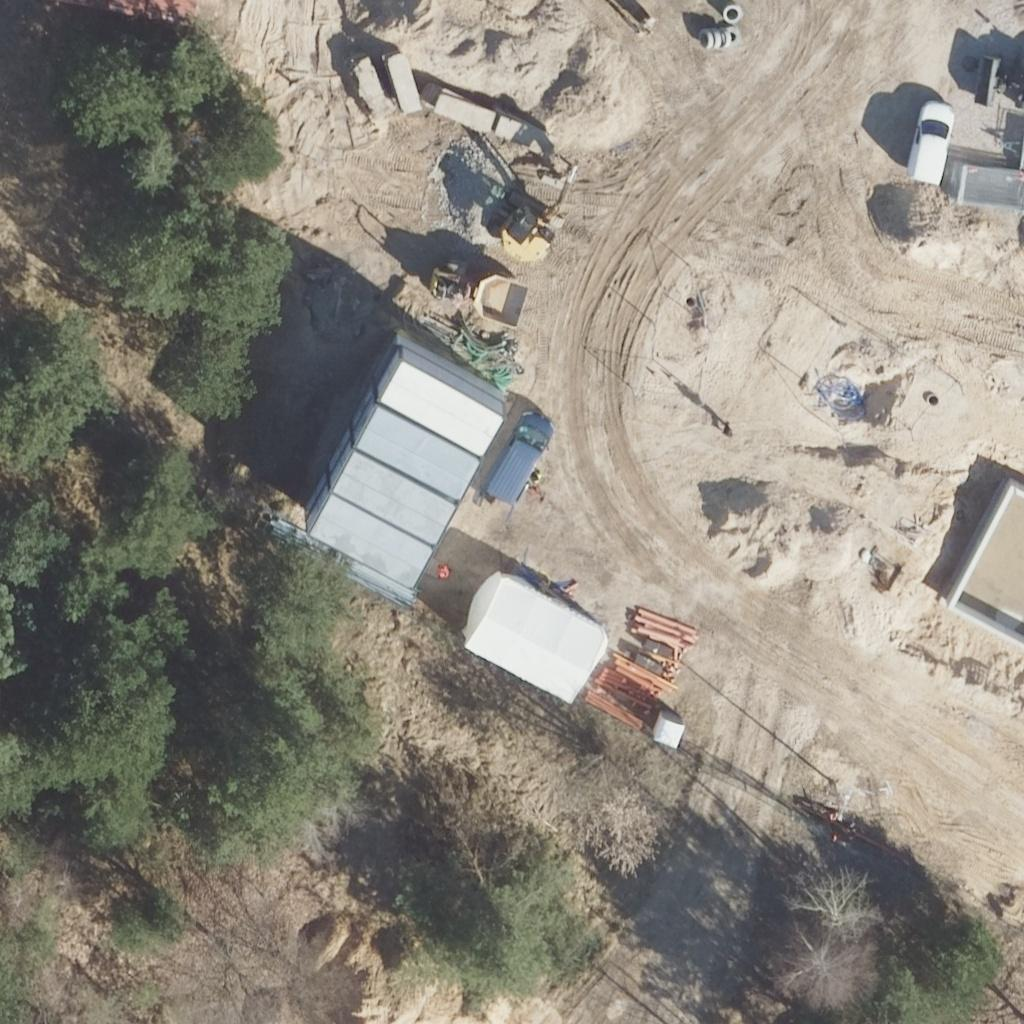koparka: (496, 157, 585, 269), (420, 264, 537, 330)
samochod_osobowy: (482, 404, 560, 509), (906, 98, 956, 185)
